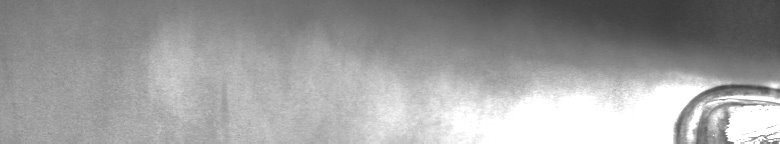ke: (655, 64, 776, 136)
